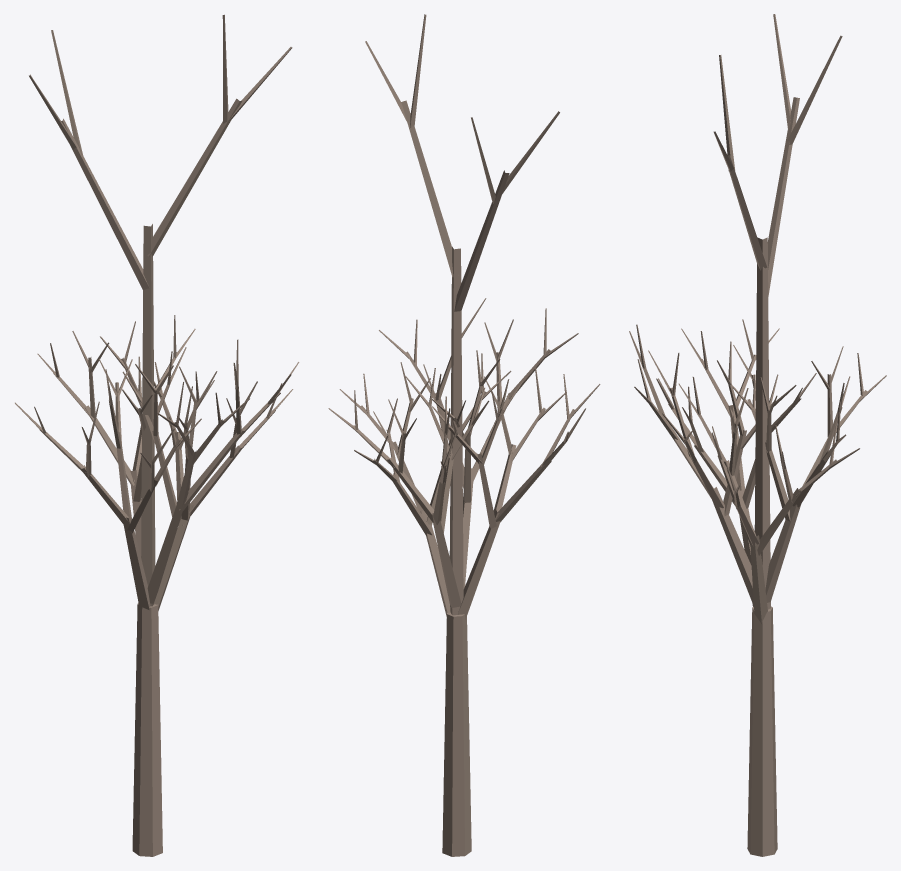
File: tree-broadleaf-c-bare.glb
3 renders of one model, left to right at view 1: azimuth 30°, elevation 25°; view 2: azimuth 150°, elevation 25°; view 3: azimuth 270°, elevation 25°, orthographic. The views are drawn at different scales.
Visible parts, largest first — view 1: tree-broadleaf-c-bare; view 2: tree-broadleaf-c-bare; view 3: tree-broadleaf-c-bare.
Part boxes in pixels (left/top/right/bottom): tree-broadleaf-c-bare: left=15, top=14, right=299, bottom=856; tree-broadleaf-c-bare: left=328, top=14, right=600, bottom=856; tree-broadleaf-c-bare: left=629, top=14, right=886, bottom=856.
Bounding box in the file's own units: 0.3535 × 1.1 × 0.3122.
